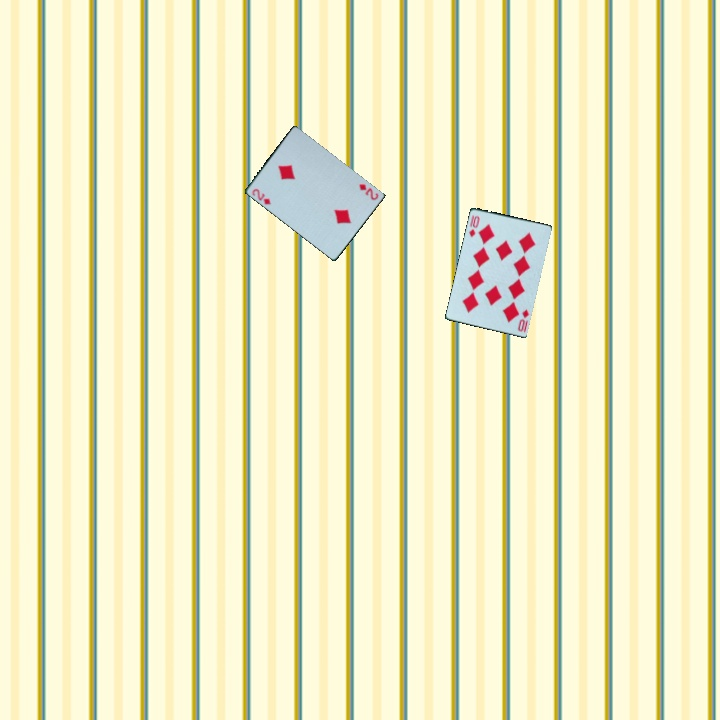10d: (514, 306, 532, 335), (465, 211, 482, 240)
2d: (355, 180, 381, 203), (248, 185, 273, 208)
